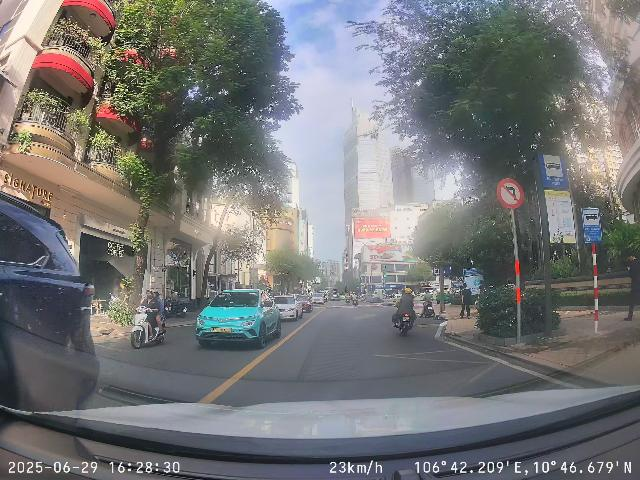123a-cam-re-trai: (496, 178, 524, 209)
